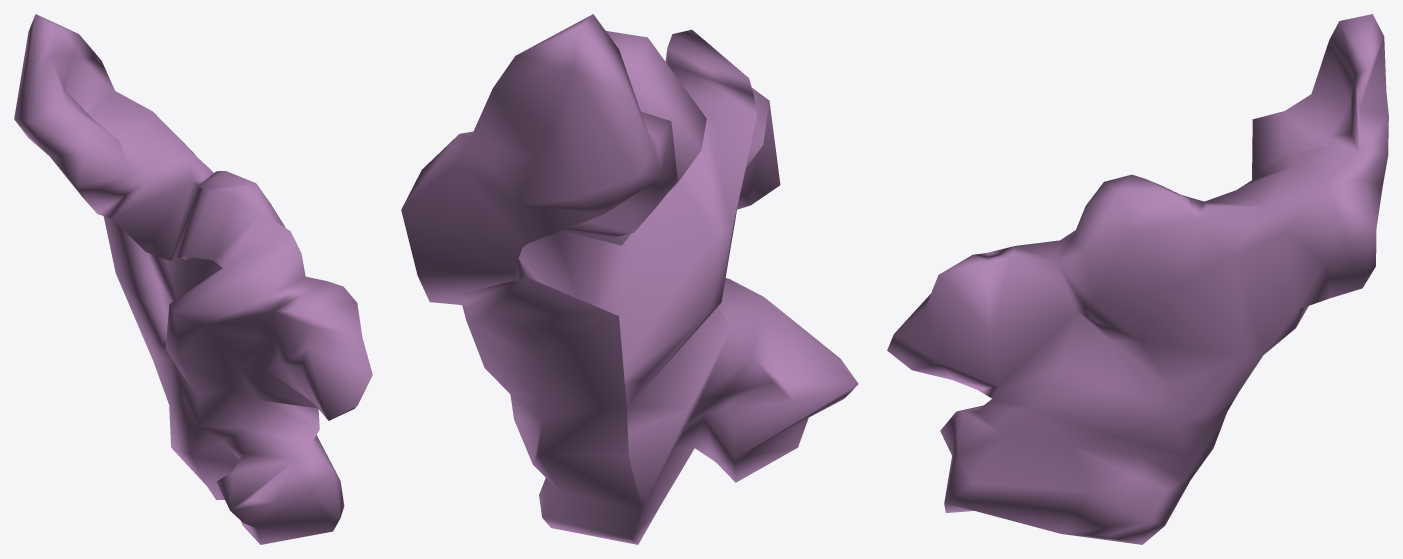
The picture shows the model from 3 angles, left to right: view 1: azimuth 30°, elevation 25°; view 2: azimuth 150°, elevation 25°; view 3: azimuth 270°, elevation 25°; orthographic projection. The views are drawn at different scales.
Visible parts, largest first — view 1: 右侧扣带回与扣带沟后背侧部; view 2: 右侧扣带回与扣带沟后背侧部; view 3: 右侧扣带回与扣带沟后背侧部.
Boxes of the visible parts, x1=… form: 右侧扣带回与扣带沟后背侧部: x1=14, y1=14, x2=372, y2=544; 右侧扣带回与扣带沟后背侧部: x1=401, y1=14, x2=858, y2=544; 右侧扣带回与扣带沟后背侧部: x1=887, y1=14, x2=1388, y2=544.
Bounding box in the file's own units: 0.0193 × 0.0501 × 0.0487.
